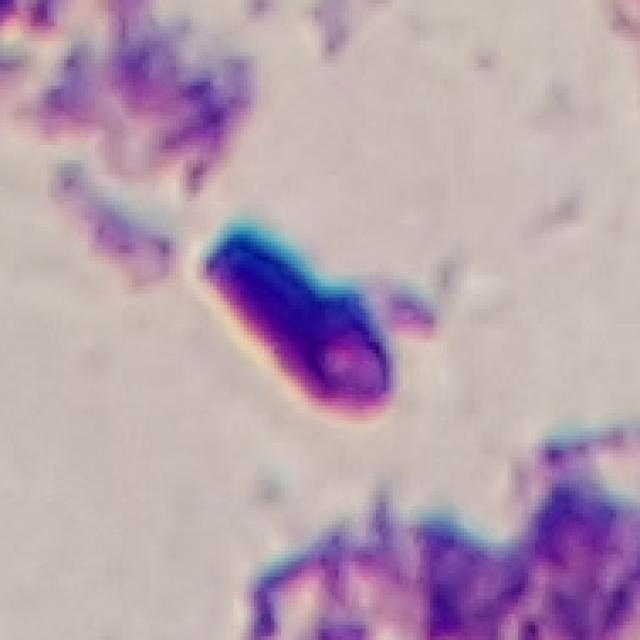non-sperm: (197, 226, 398, 422)
